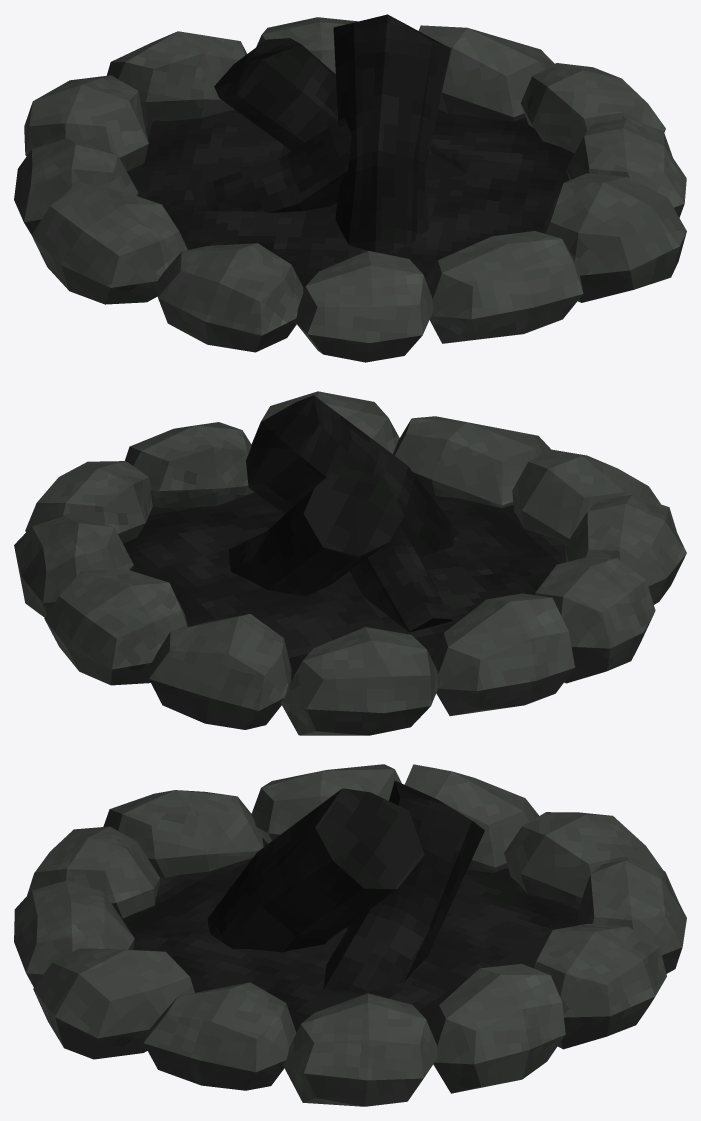
The model's file is Fire Place.fbx.
3 views of the same model, one above another, from view 1: azimuth 30°, elevation 25°; view 2: azimuth 150°, elevation 25°; view 3: azimuth 270°, elevation 25° (orthographic). The views are drawn at different scales.
Visible parts, largest first — view 1: Fire Place; view 2: Fire Place; view 3: Fire Place.
Boxes of the visible parts, x1,y1,x2,y2 form: Fire Place: (14, 14, 686, 362); Fire Place: (14, 391, 686, 735); Fire Place: (14, 764, 686, 1106).
Size of the model in its own units: 143 by 59.46 by 141.
